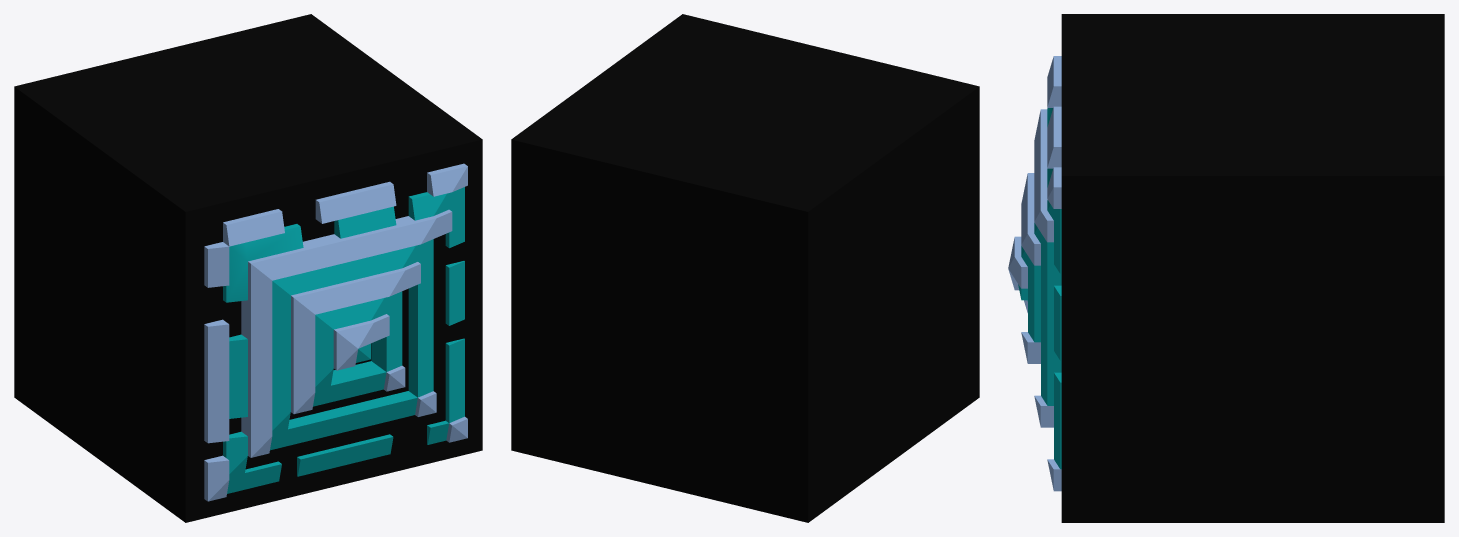
The model's file is br-m-spiral-aqua.fbx.
3 views of the same model, side by side, from view 1: azimuth 30°, elevation 25°; view 2: azimuth 150°, elevation 25°; view 3: azimuth 270°, elevation 25° (orthographic). The views are drawn at different scales.
Parts seen in each view (by area): view 1: base, shade, highlight; view 2: base; view 3: base, highlight, shade.
Part boxes in pixels (left/top/right/bottom): base: left=14, top=14, right=482, bottom=522; shade: left=223, top=187, right=464, bottom=493; highlight: left=204, top=163, right=467, bottom=501; base: left=511, top=14, right=979, bottom=522; base: left=1061, top=14, right=1444, bottom=522; highlight: left=1008, top=56, right=1061, bottom=491; shade: left=1018, top=108, right=1061, bottom=469.
Size of the model in its own units: 2 by 2 by 2.28.
